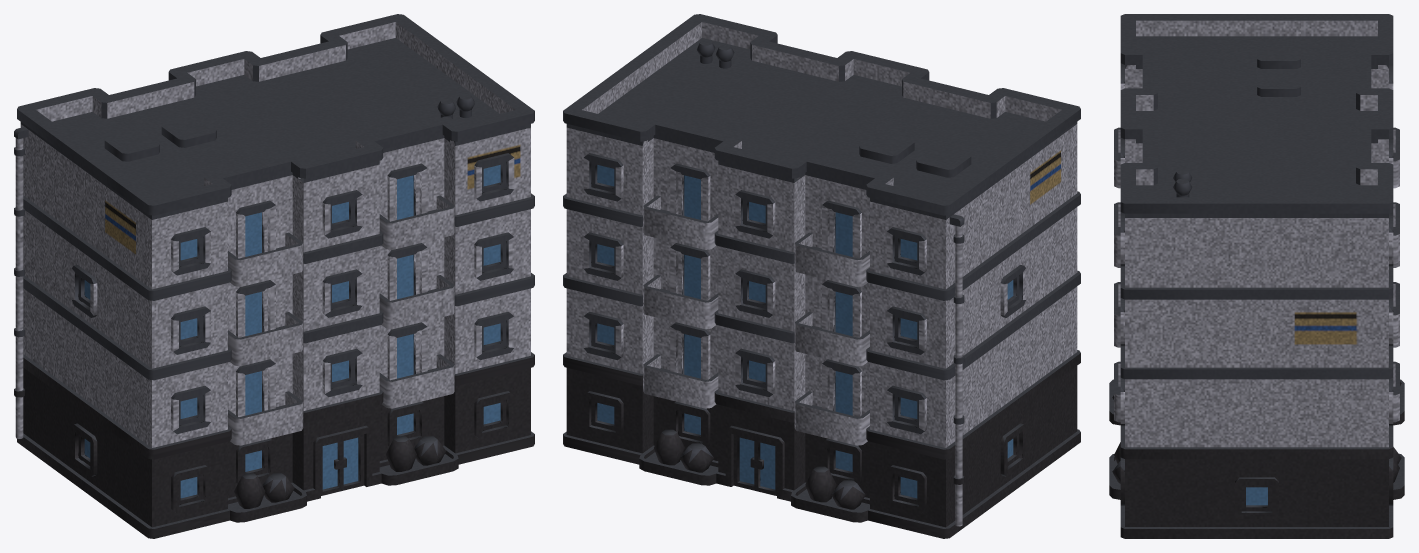
Rendered from building-j-white-scuffed.glb.
3 renders of one model, left to right at view 1: azimuth 30°, elevation 25°; view 2: azimuth 150°, elevation 25°; view 3: azimuth 270°, elevation 25°, orthographic.
Visible parts, largest first — view 1: building-j-white-scuffed; view 2: building-j-white-scuffed; view 3: building-j-white-scuffed.
Part boxes in pixels (box(x1,y1,x2,y2)): building-j-white-scuffed: box(14, 14, 534, 538); building-j-white-scuffed: box(563, 14, 1080, 538); building-j-white-scuffed: box(1109, 14, 1404, 538).
Bounding box in the file's own units: 2.08 × 1.69 × 1.34.
Materials: 1 (1 with a texture image).
